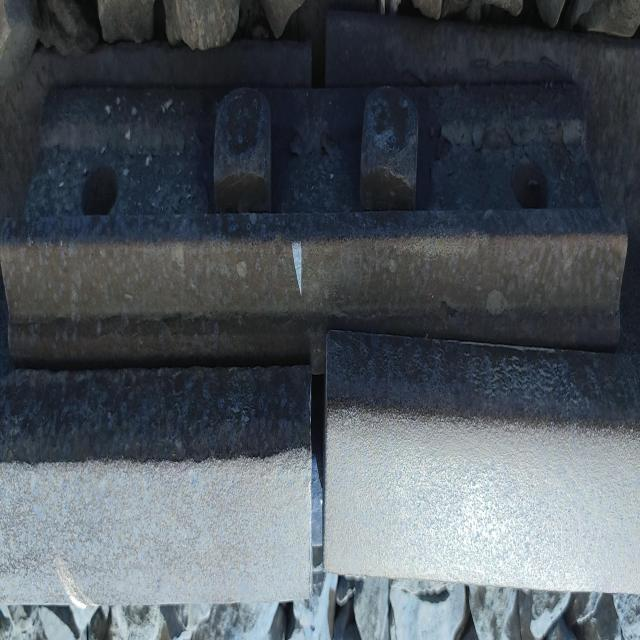broken_rail_low: (293, 309, 344, 606)
